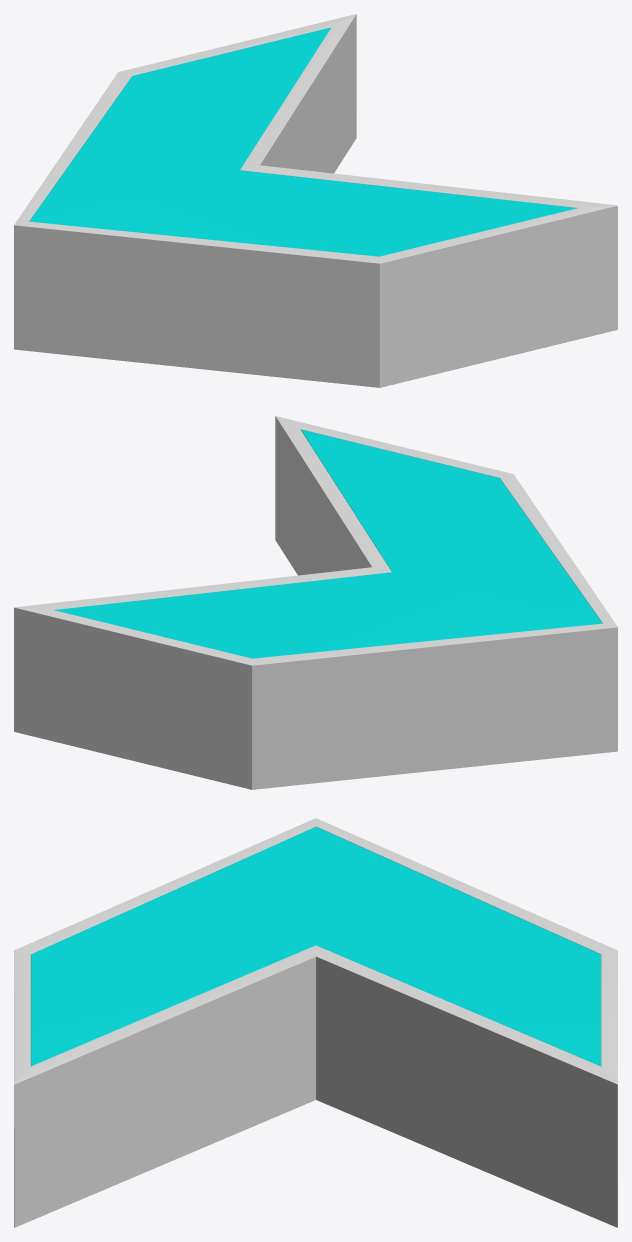
The model's file is Arrow Lobby.fbx.
3 renders of one model, top to bottom at view 1: azimuth 30°, elevation 25°; view 2: azimuth 150°, elevation 25°; view 3: azimuth 270°, elevation 25°, orthographic. The views are drawn at different scales.
Visible parts, largest first — view 1: Arrow5; view 2: Arrow5; view 3: Arrow5.
Part boxes in pixels (<box>): Arrow5: <box>14,14,617,387</box>; Arrow5: <box>14,416,617,789</box>; Arrow5: <box>14,818,617,1227</box>.
Bounding box in the file's own units: 3.99 × 1 × 3.82.
